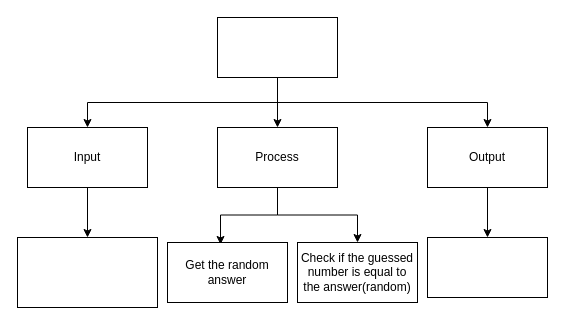
Some shapes in this 565 by 325 pixel diagram are drawn without their labels. Here are the shapes that lost their labels. From the top down, the box of each, then its label:
(216, 16, 338, 78): Number Guessing Game
(16, 236, 158, 308): Get the number the user guesses
(426, 236, 548, 298): Show answer
